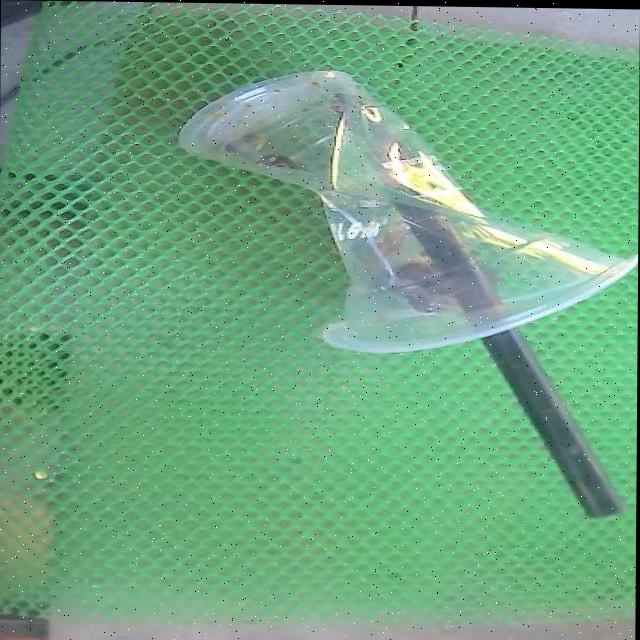cup: (180, 69, 634, 352)
